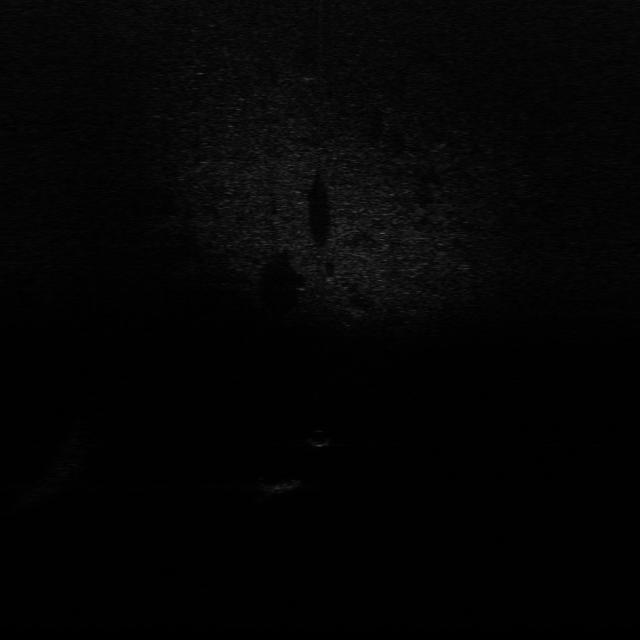ball: (306, 427, 334, 448)
square cage: (254, 475, 304, 494)
